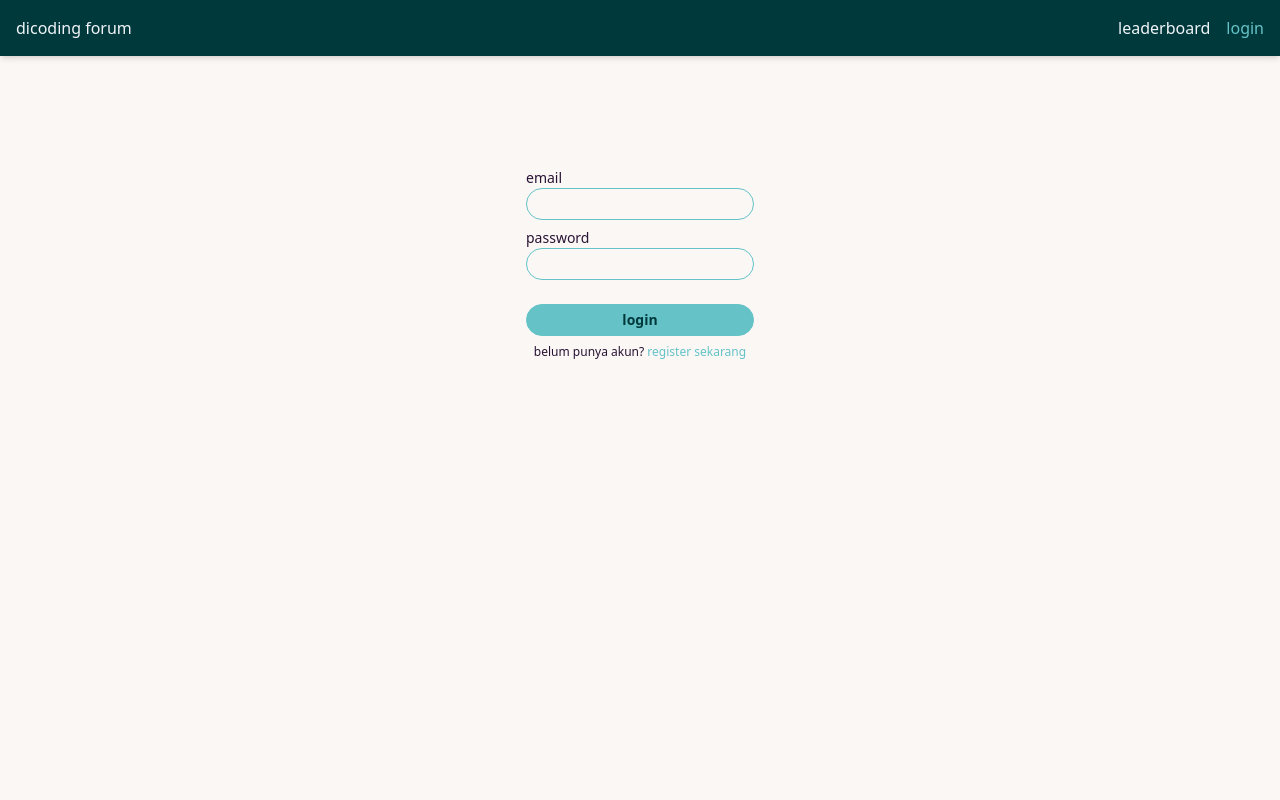
login spec › should display alert message when login is failed
The width and height of the screenshot is (1280, 800).
Type "test@test.com" into the field named "email" at (640, 204), box 526,188 -> 754,220
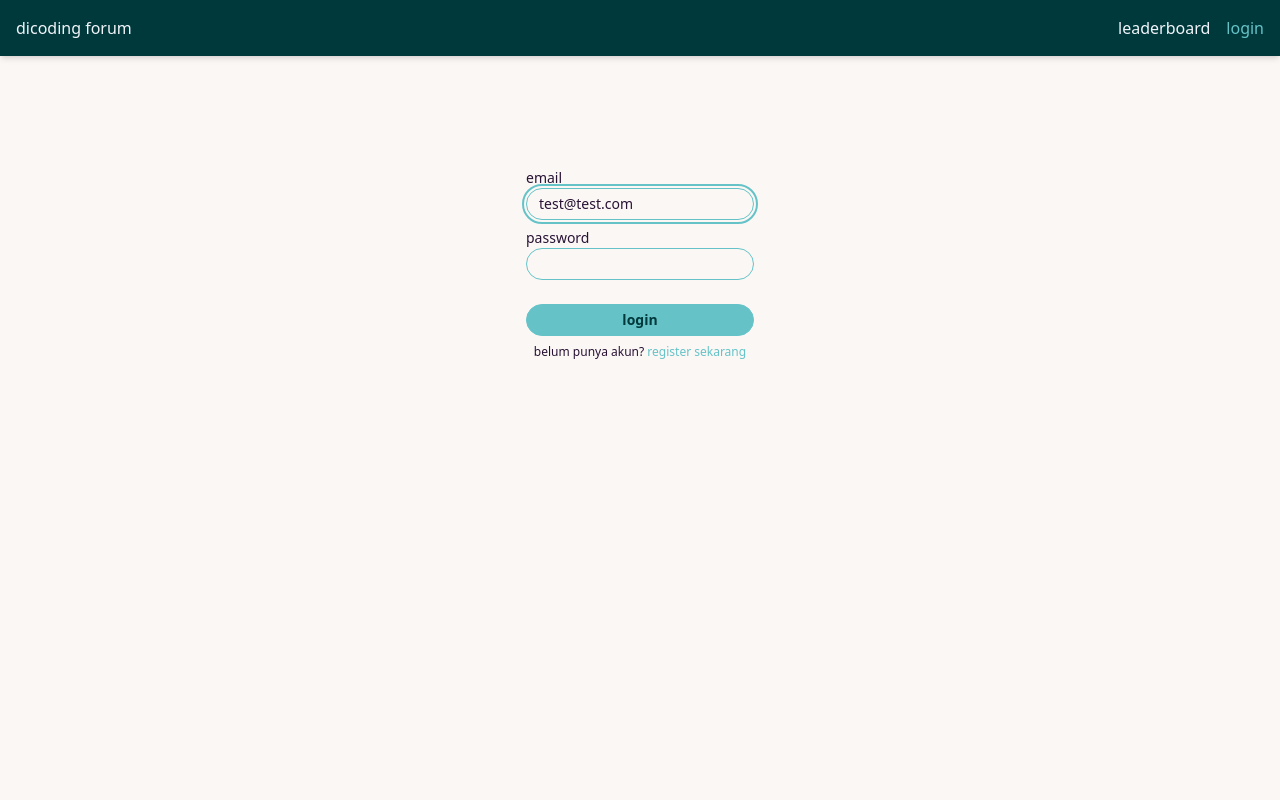
Type "passwordtest" into the password field named "password" at (640, 264), box 526,248 -> 754,280
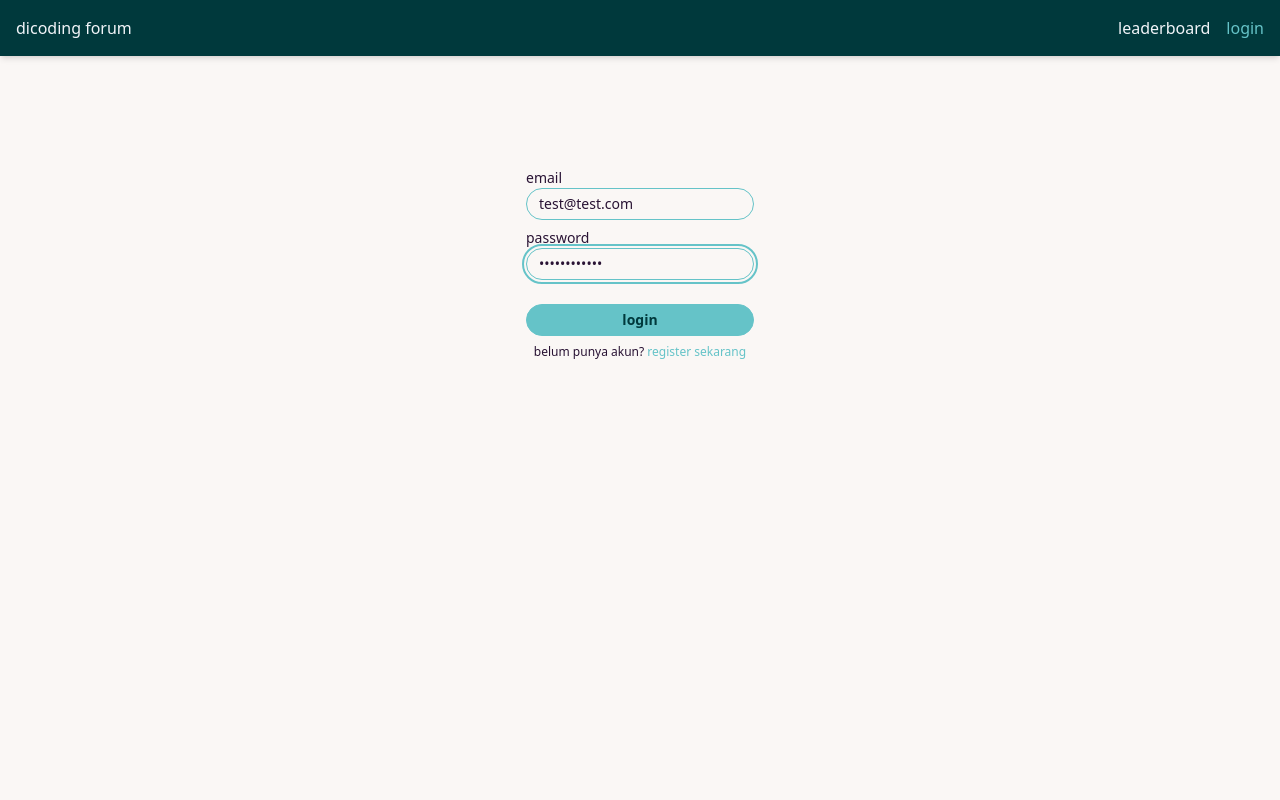
Click the button "login" at (640, 320), box 526,304 -> 754,336
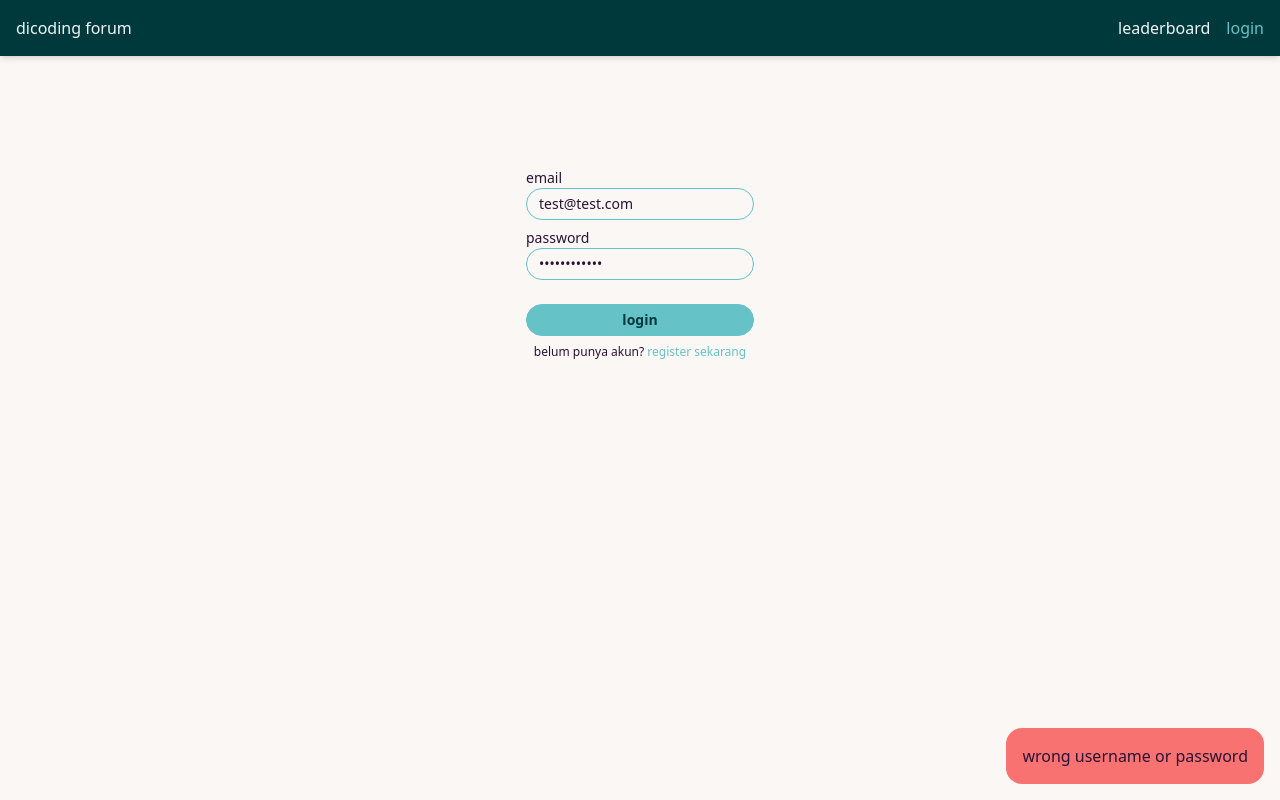
expect the element with class "alert" reads "wrong username or password": met, box 1006,728 -> 1264,784
